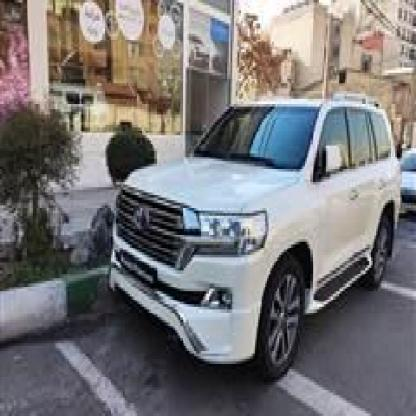Car: (97, 70, 399, 382), (390, 138, 416, 242)
